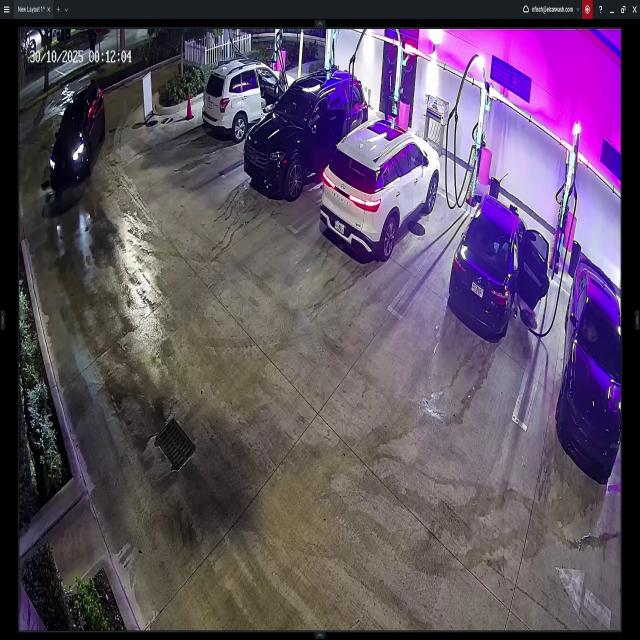Car: (246, 70, 366, 201), (324, 119, 438, 253), (452, 190, 548, 339), (558, 254, 618, 476), (204, 53, 295, 137), (42, 84, 105, 184)
